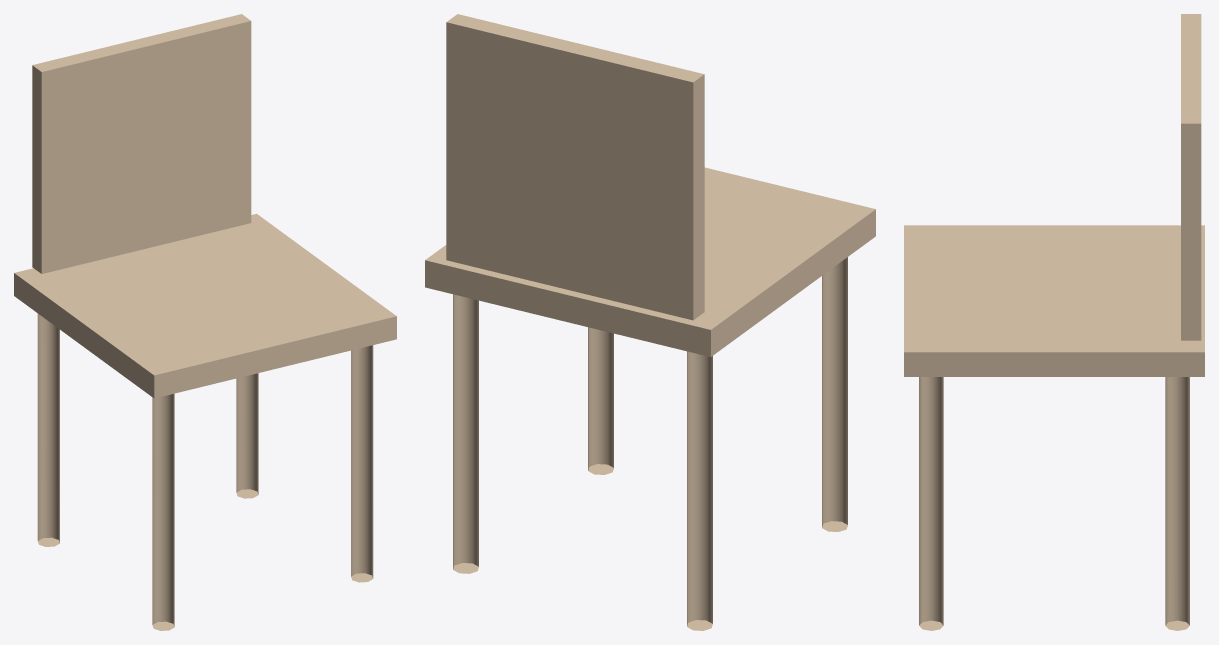
File: dining_chair_01.glb
The picture shows the model from 3 angles, left to right: view 1: azimuth 30°, elevation 25°; view 2: azimuth 150°, elevation 25°; view 3: azimuth 270°, elevation 25°; orthographic projection. The views are drawn at different scales.
Size of the model in its own units: 0.44 by 0.815 by 0.44.
